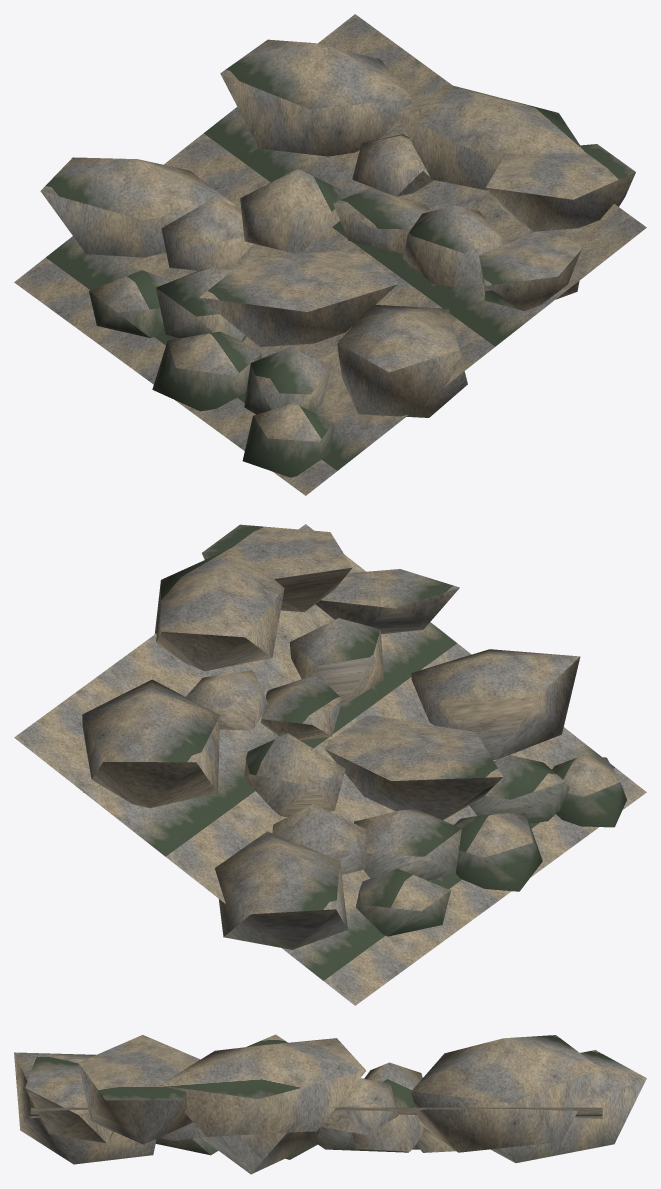
The model's file is SM_Molo_Scogliera_A_LOD1.fbx.
3 views of the same model, one above another, from view 1: azimuth 30°, elevation 25°; view 2: azimuth 150°, elevation 25°; view 3: azimuth 270°, elevation 25° (orthographic). The views are drawn at different scales.
Visible parts, largest first — view 1: SM_Molo_Scogliera_A_LOD1; view 2: SM_Molo_Scogliera_A_LOD1; view 3: SM_Molo_Scogliera_A_LOD1.
Boxes of the visible parts, left/top/right/bottom form: SM_Molo_Scogliera_A_LOD1: left=14, top=14, right=646, bottom=495; SM_Molo_Scogliera_A_LOD1: left=14, top=524, right=646, bottom=1005; SM_Molo_Scogliera_A_LOD1: left=14, top=1034, right=646, bottom=1174.
Bounding box in the file's own units: 621 × 885 × 353.
1 material, 1 textured.
